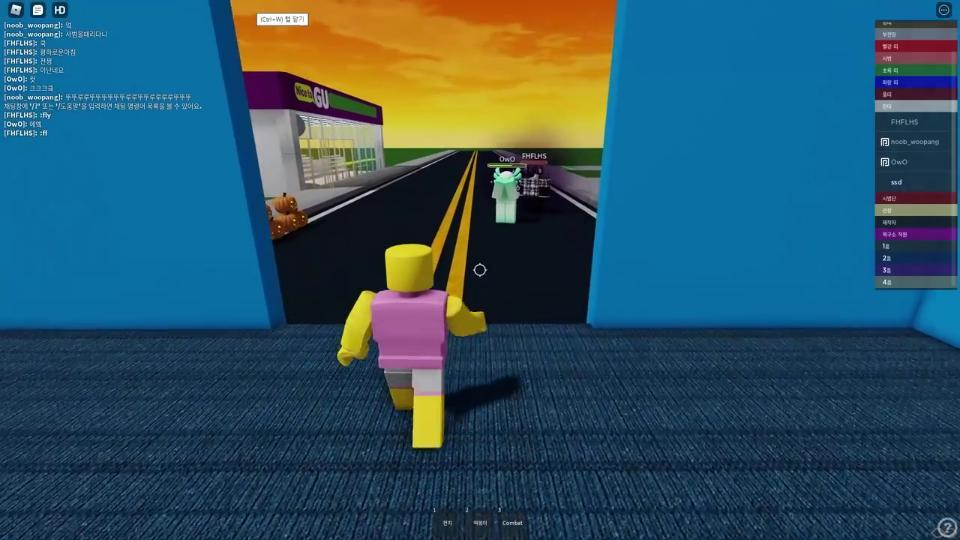Character: (338, 243, 487, 448), (518, 163, 551, 220), (493, 168, 522, 224)
